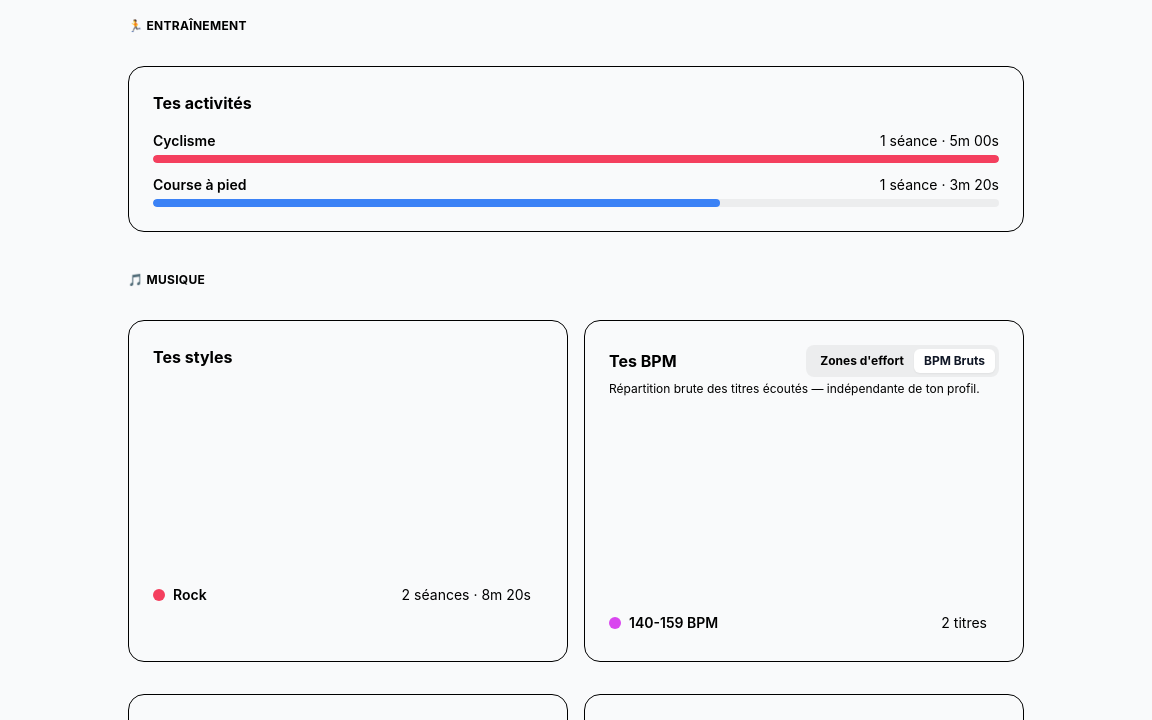
Test: StatsView — zones cardio (infobulles ajoutées le 14/08) › "Détail par activité" (≥2 activités classées) : chaque ligne de zone porte aussi le libellé complet en infobulle
(page scrolled)
Click the button "Zones d'effort" at (862, 360), box [810,348,914,372]
(page scrolled)
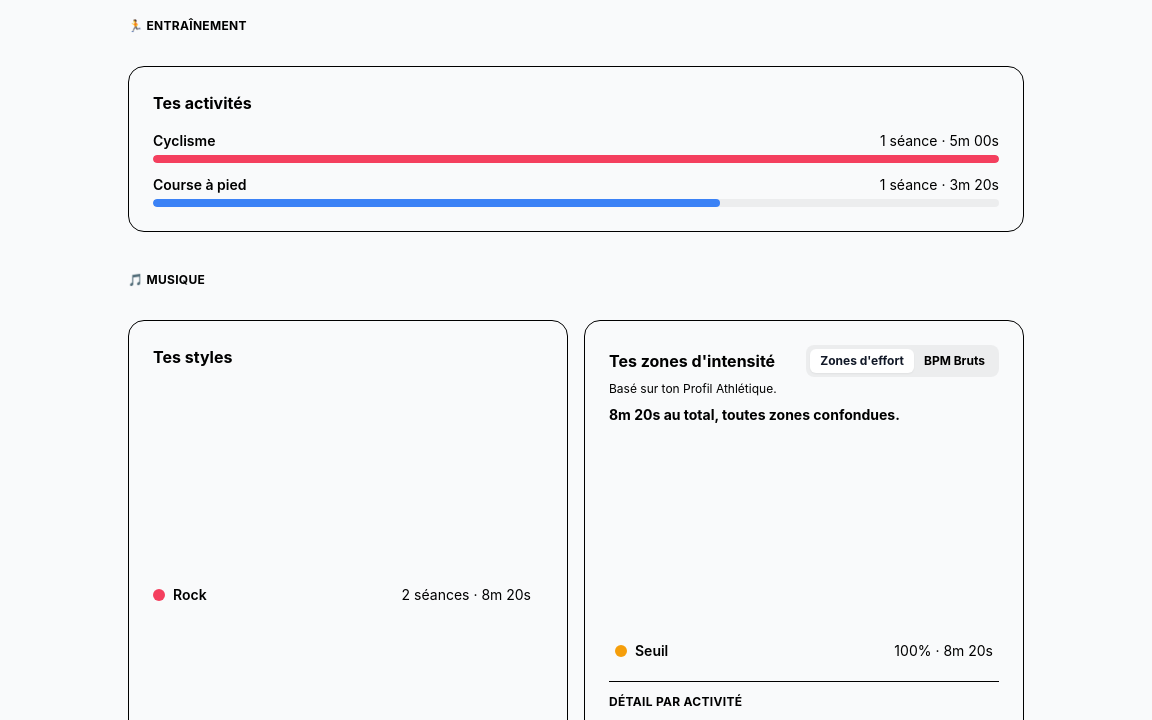
Result: the text "Détail par activité" is shown at [609,694,742,708]
